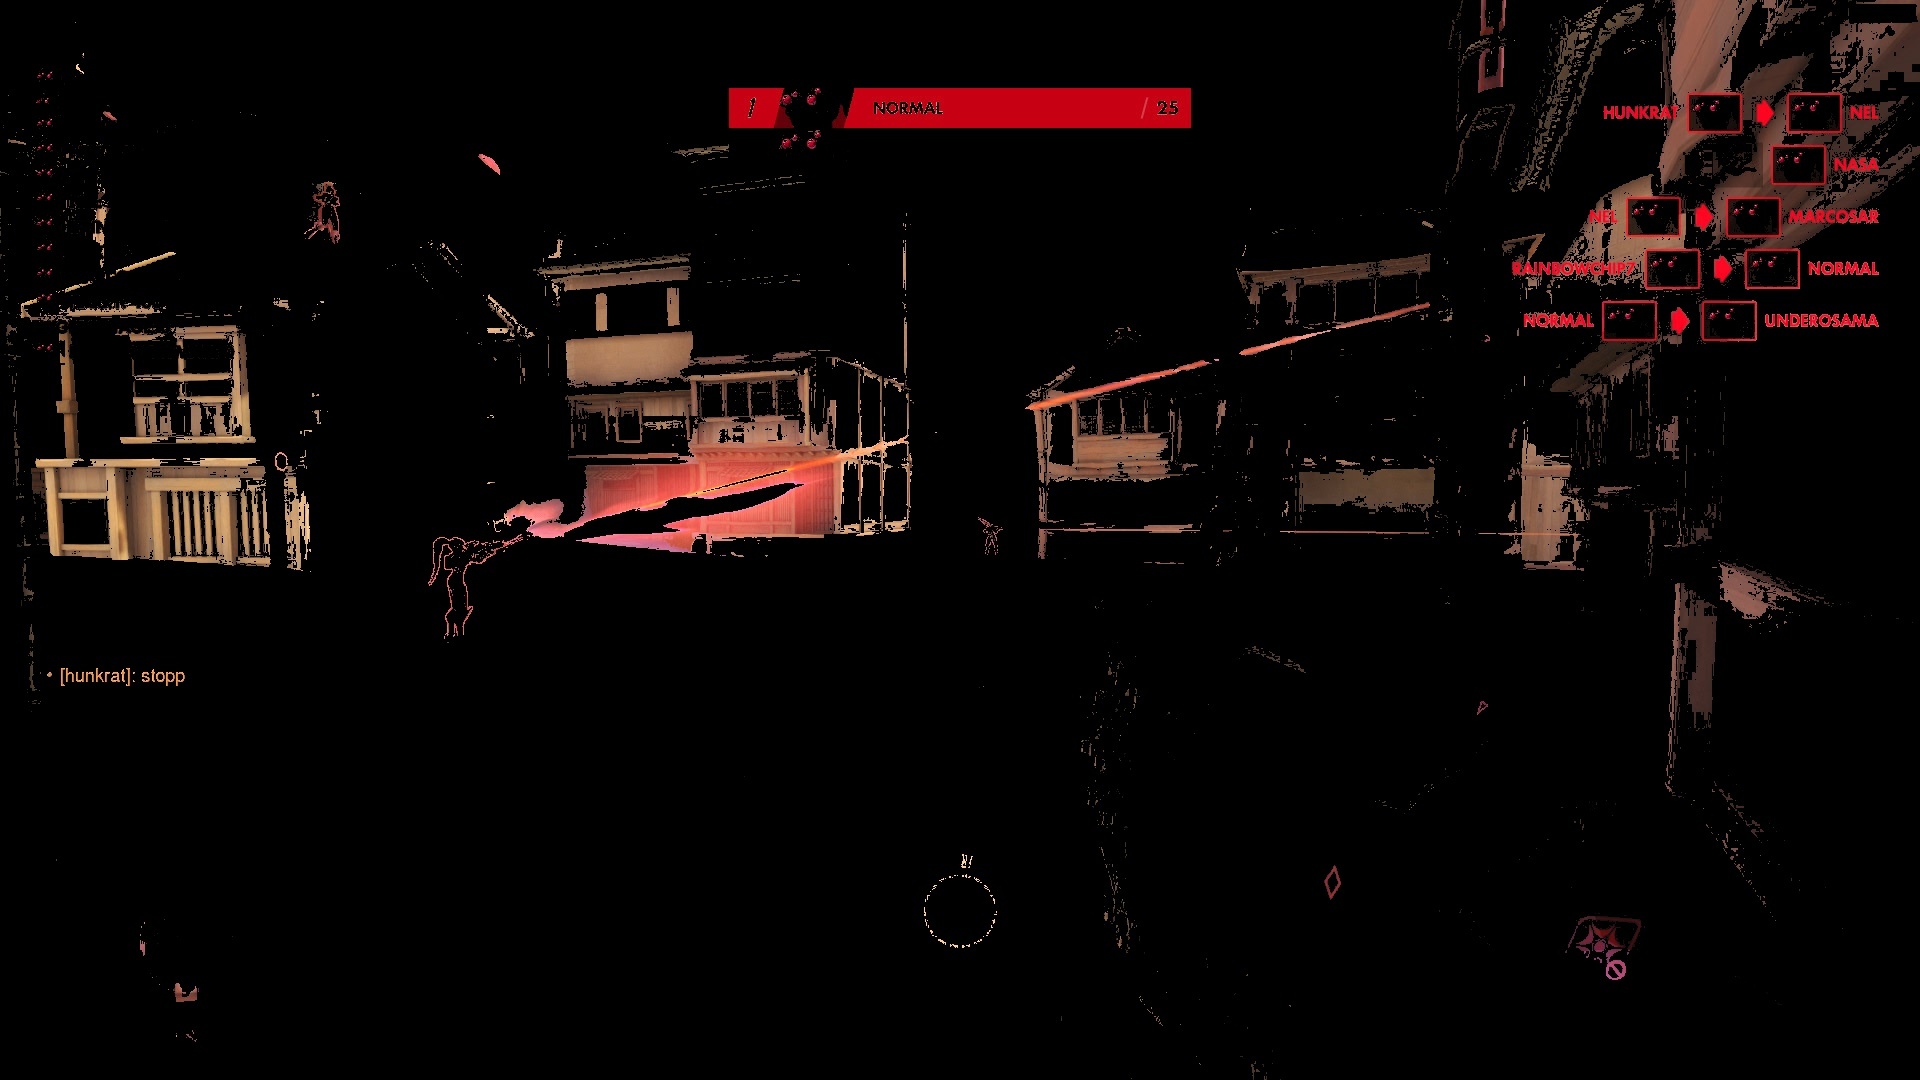widowmaker: (425, 533, 531, 649), (305, 183, 353, 258), (972, 512, 1015, 560)
